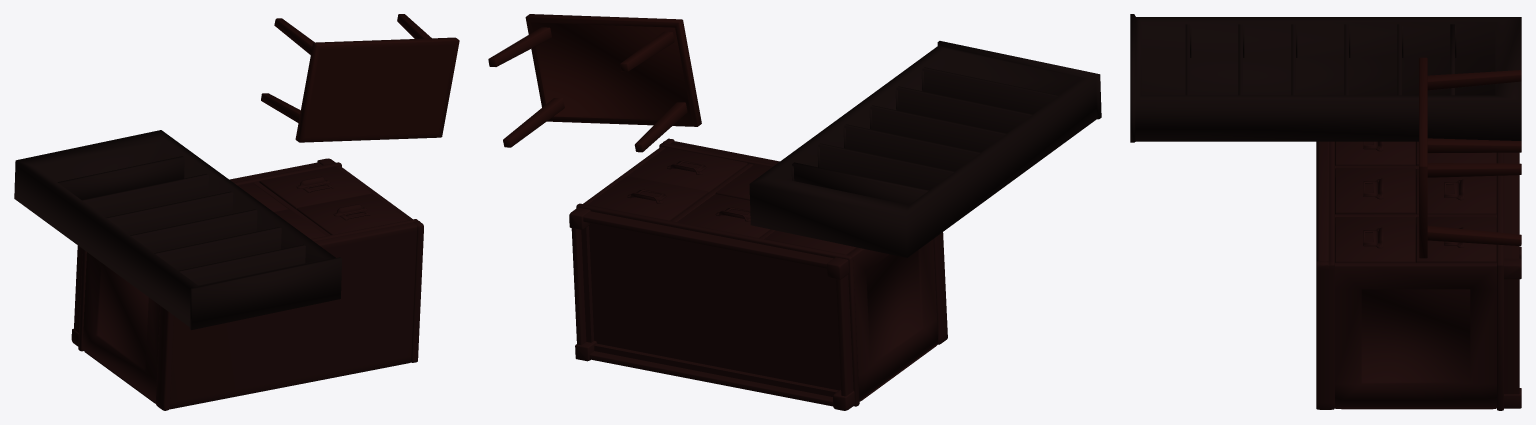
File: scene_0010_diffuse.obj
3 views of the same model, side by side, from view 1: azimuth 30°, elevation 25°; view 2: azimuth 150°, elevation 25°; view 3: azimuth 270°, elevation 25° (orthographic). The views are drawn at different scales.
Visible parts, largest first — view 1: diffuse_cabinet_01, diffuse_shelf_03, diffuse_table_02; view 2: diffuse_cabinet_01, diffuse_shelf_03, diffuse_table_02; view 3: diffuse_cabinet_01, diffuse_shelf_03, diffuse_table_02.
Boxes of the visible parts, x1,y1,x2,y2 form: diffuse_cabinet_01: (71, 158, 423, 410); diffuse_shelf_03: (14, 130, 342, 329); diffuse_table_02: (261, 14, 459, 142); diffuse_cabinet_01: (569, 138, 947, 410); diffuse_shelf_03: (749, 41, 1101, 257); diffuse_table_02: (488, 14, 701, 152); diffuse_cabinet_01: (1316, 141, 1521, 410); diffuse_shelf_03: (1130, 14, 1521, 142); diffuse_table_02: (1419, 57, 1521, 258).
Size of the model in its own units: 233 by 165 by 180.
